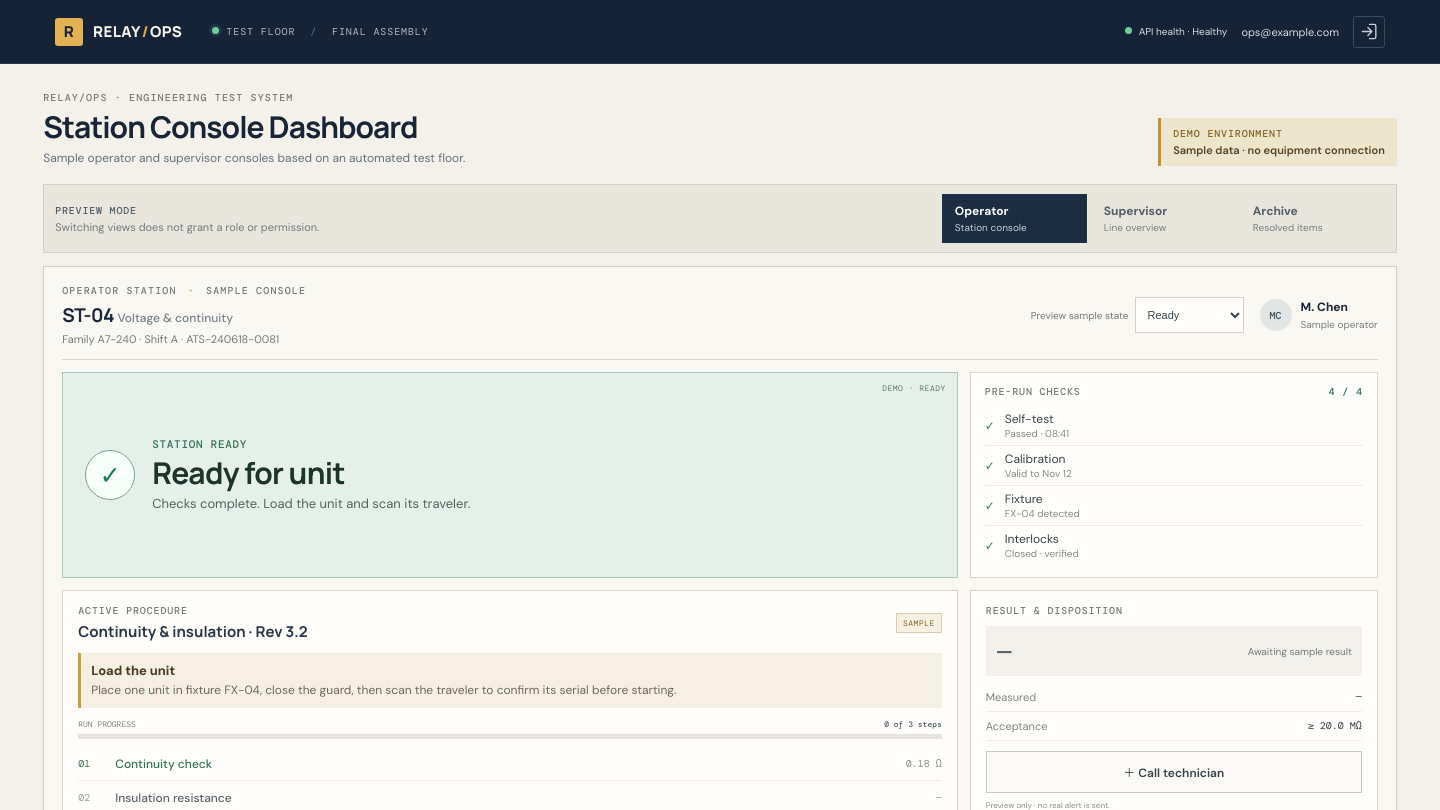
it: archive tab lists resolved sample items and filters by kind
What coordinates should you click on to do the following:
click the tab "Archive Resolved items"
I would click on:
 (1312, 218)
Its box is 1240,194 -> 1385,243.
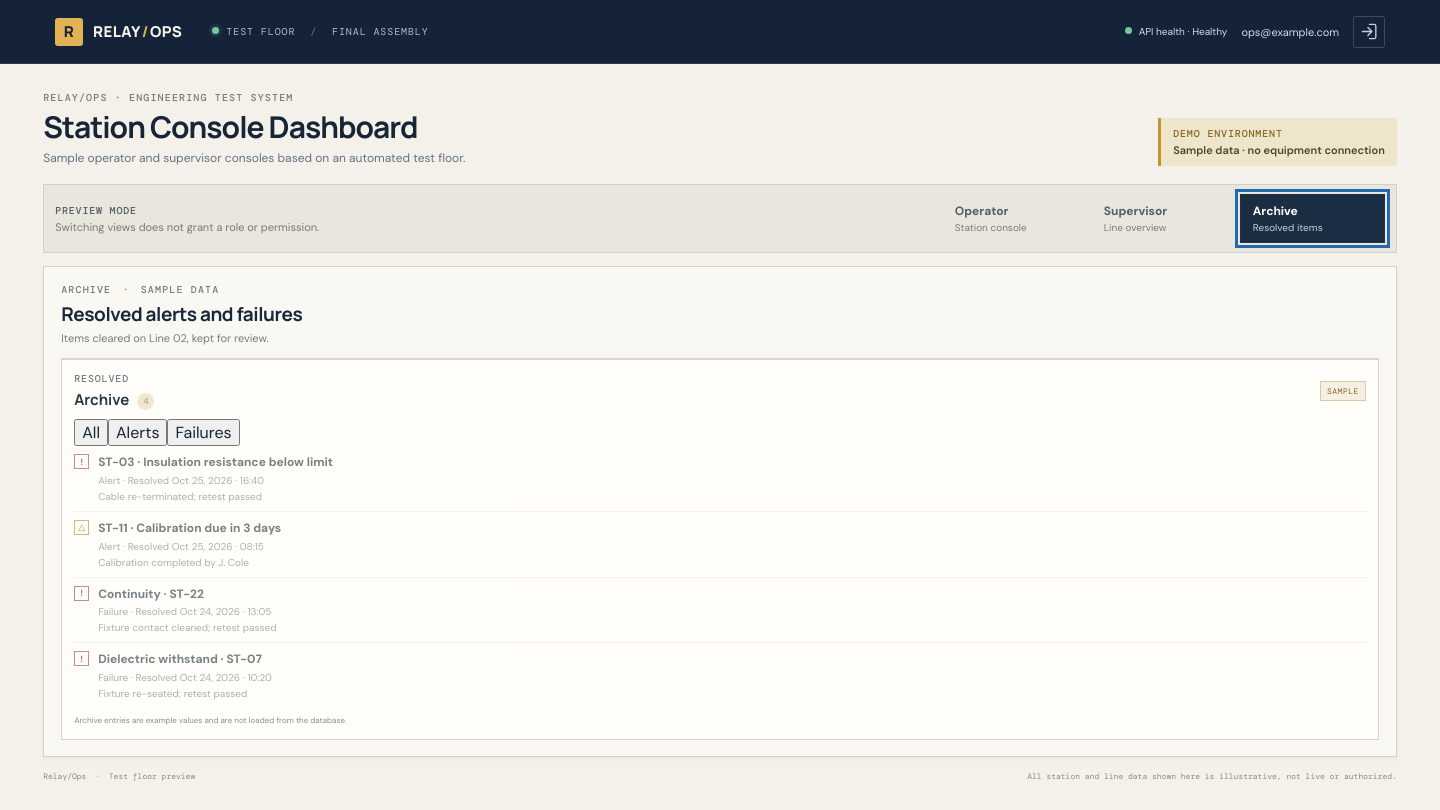
Now the element named "archive preview" is shown, box 43,266 -> 1397,757
Now the text "ST-03 · Insulation resistance below limit" is shown, box 98,454 -> 333,470
Now the text "Continuity · ST-22" is shown, box 98,586 -> 204,602
What coordinates should you click on to do the following:
click the button "Failures"
I would click on:
 (204, 432)
Its box is 168,419 -> 240,446.
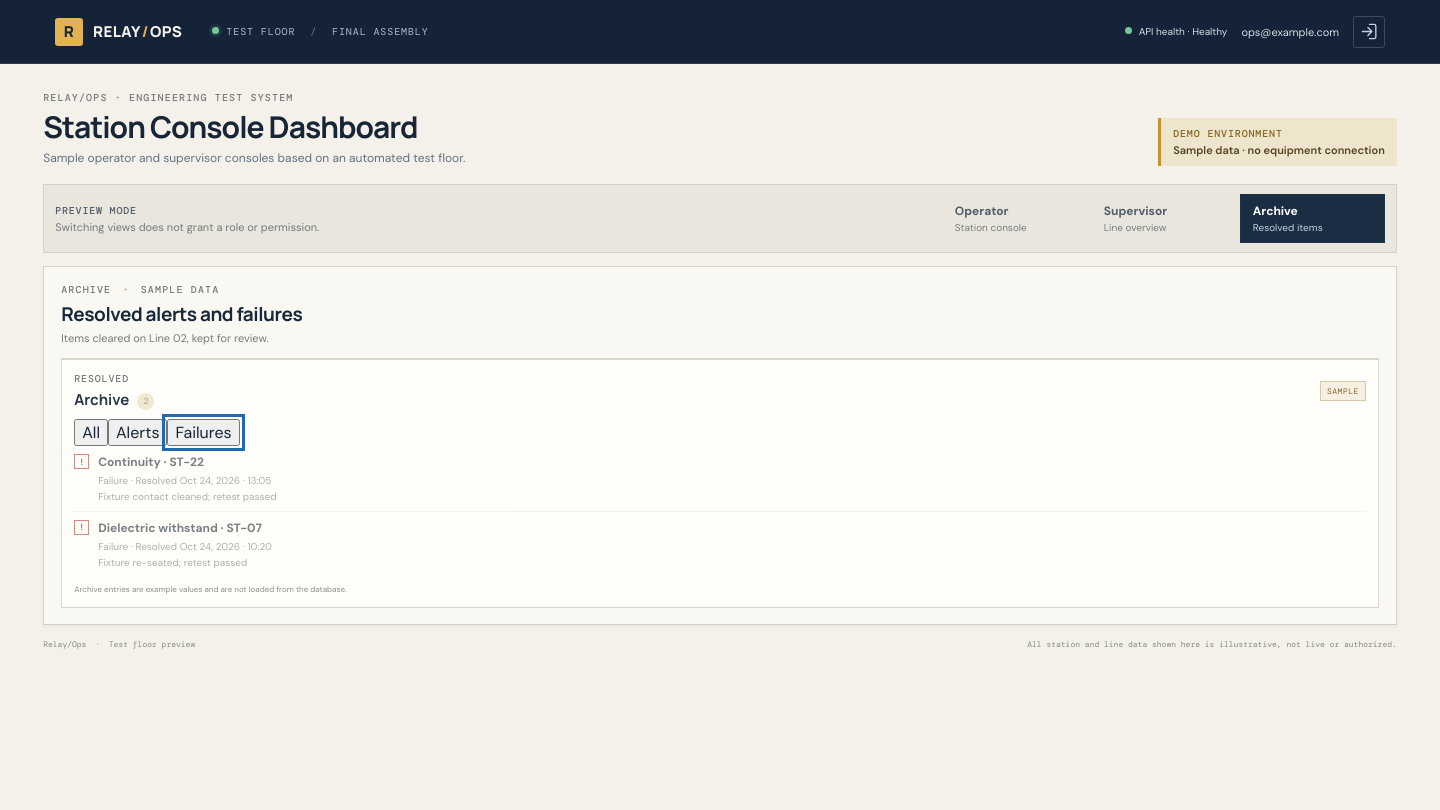
Now the text "Continuity · ST-22" is shown, box 98,454 -> 204,470
Now the text "not loaded from the database" is shown, box 74,584 -> 347,594
Now the text "ST-03 · Insulation resistance below limit" is gone
